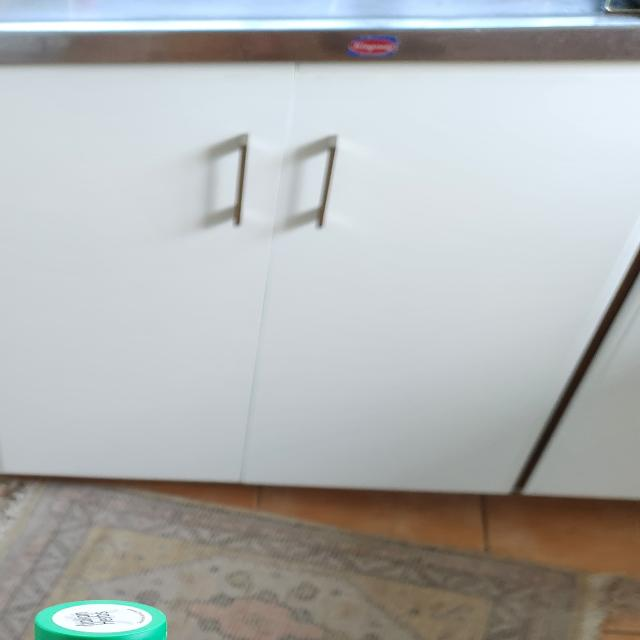italian herbs: (39, 595, 168, 640)
